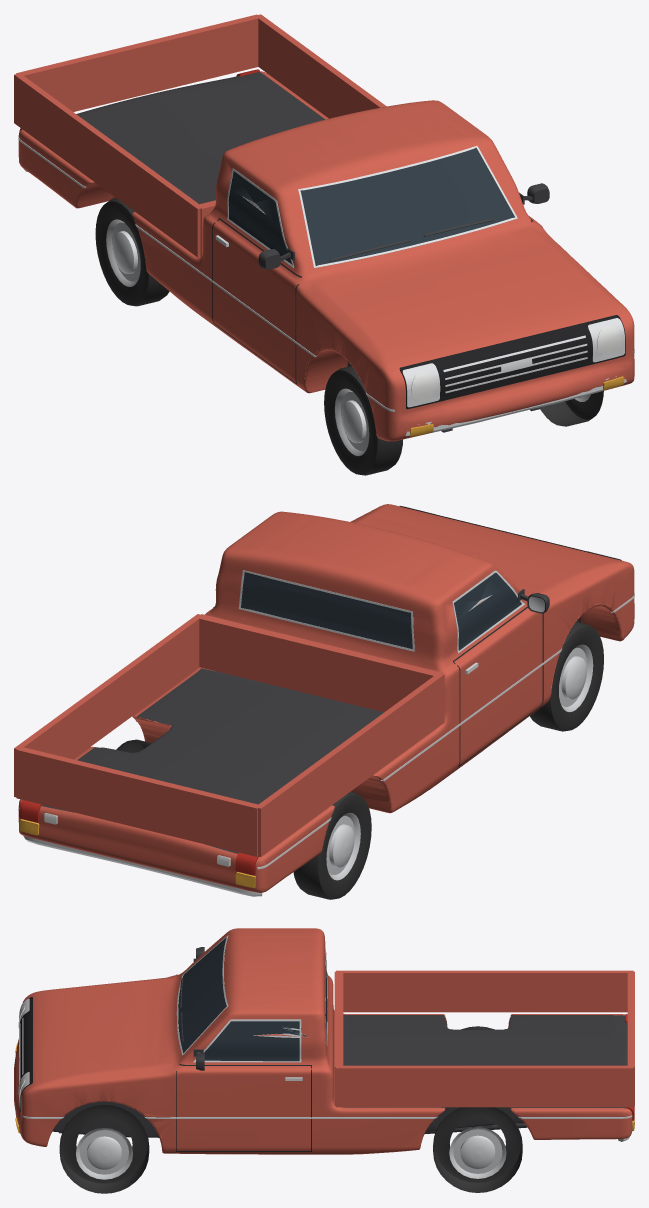
File: hilux.glb
The picture shows the model from 3 angles, top to bottom: view 1: azimuth 30°, elevation 25°; view 2: azimuth 150°, elevation 25°; view 3: azimuth 270°, elevation 25°; orthographic projection. The views are drawn at different scales.
Visible parts, largest first — view 1: paint, trim, glass, wheel_fr, wheel_rr, wheel_fl, headlights; view 2: paint, trim, glass, wheel_rr, wheel_fr, taillights; view 3: paint, trim, glass, wheel_fl, wheel_rl.
Part boxes in pixels (box(x1,y1,x2,y2)): paint: box(18, 71, 634, 441); trim: box(14, 14, 634, 436); glass: box(228, 148, 514, 265); wheel_fr: box(324, 366, 402, 475); wheel_rr: box(95, 198, 169, 306); wheel_fl: box(540, 391, 603, 426); headlights: box(411, 326, 621, 401); paint: box(18, 504, 634, 892); trim: box(14, 506, 634, 896); glass: box(241, 572, 521, 650); wheel_rr: box(293, 791, 371, 899); wheel_fr: box(530, 622, 603, 731); taillights: box(19, 800, 258, 875); paint: box(14, 928, 632, 1154); trim: box(16, 935, 634, 1151); glass: box(178, 937, 327, 1061); wheel_fl: box(59, 1105, 149, 1193); wheel_rl: box(433, 1107, 522, 1192).
Bounding box in the file's own units: 1.86 × 1.43 × 4.3.
